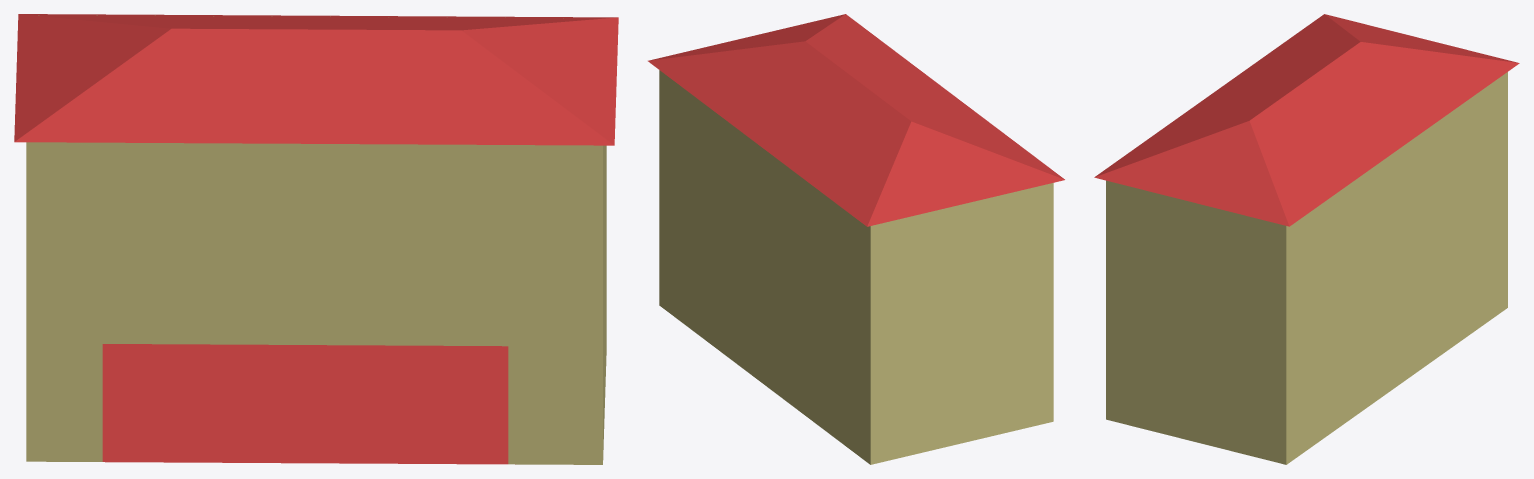
3 views of the same model, side by side, from view 1: azimuth 30°, elevation 25°; view 2: azimuth 150°, elevation 25°; view 3: azimuth 270°, elevation 25° (orthographic). The views are drawn at different scales.
Visible parts, largest first — view 1: group_5, group_3, group_6, group_4; view 2: group_5, group_3, group_4; view 3: group_5, group_3, group_4.
Boxes of the visible parts, x1,y1,x2,y2 form: group_5: (26, 15, 606, 464); group_3: (14, 15, 615, 145); group_6: (102, 344, 515, 464); group_4: (14, 14, 618, 145); group_5: (659, 70, 1053, 464); group_3: (660, 14, 1064, 218); group_4: (648, 14, 1064, 226); group_5: (1106, 72, 1507, 464); group_3: (1095, 14, 1507, 218); group_4: (1094, 14, 1519, 226).
Size of the model in its own units: 28.48 by 24.1 by 17.6.
